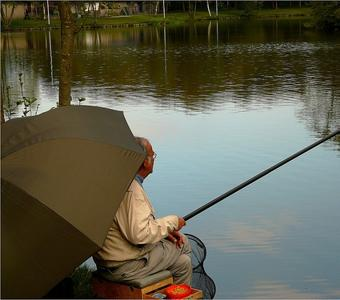person: (92, 136, 193, 287)
